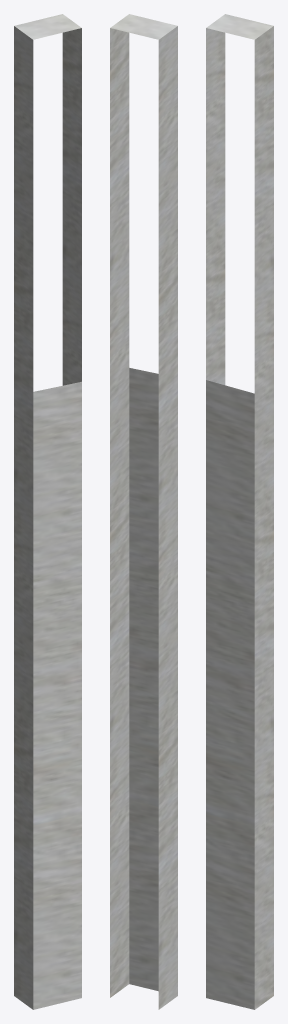
The model's file is wall_20.obj.
3 views of the same model, side by side, from view 1: azimuth 30°, elevation 25°; view 2: azimuth 150°, elevation 25°; view 3: azimuth 330°, elevation 25° (orthographic).
Parts seen in each view (by area): view 1: Cube.005; view 2: Cube.005; view 3: Cube.005.
Part boxes in pixels (x1,y1,x2,y2): Cube.005: (14,14,81,1009); Cube.005: (110,14,177,1009); Cube.005: (206,14,273,1009).
Size of the model in its own units: 0.2693 by 5.13 by 0.1833.
Materials: 1 (1 with a texture image).
